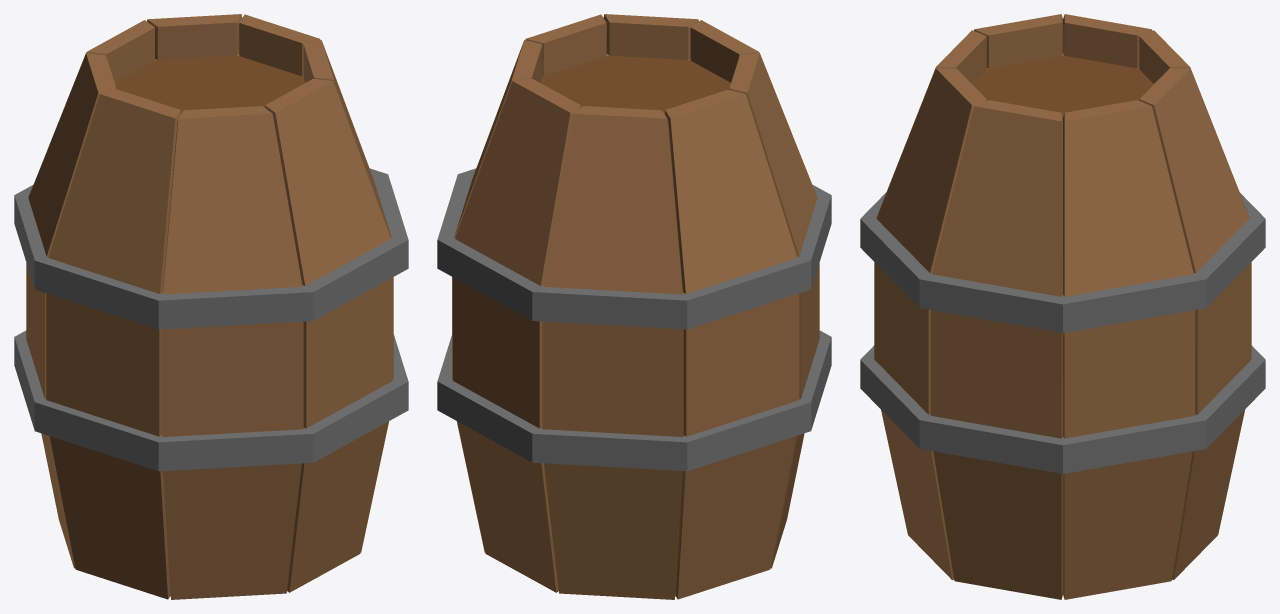
The model's file is barrel_01.fbx.
3 views of the same model, side by side, from view 1: azimuth 30°, elevation 25°; view 2: azimuth 150°, elevation 25°; view 3: azimuth 270°, elevation 25° (orthographic).
Visible parts, largest first — view 1: Barrel_01; view 2: Barrel_01; view 3: Barrel_01.
Part boxes in pixels (x1=…): Barrel_01: x1=14, y1=14, x2=408, y2=599; Barrel_01: x1=437, y1=14, x2=831, y2=599; Barrel_01: x1=860, y1=14, x2=1265, y2=599.
Size of the model in its own units: 24.81 by 24.81 by 31.51.
